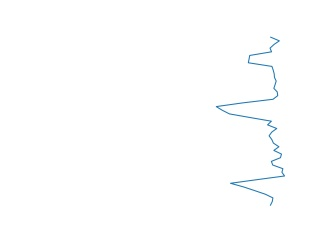underwaterNaturalLevee: (213, 37, 290, 207)
